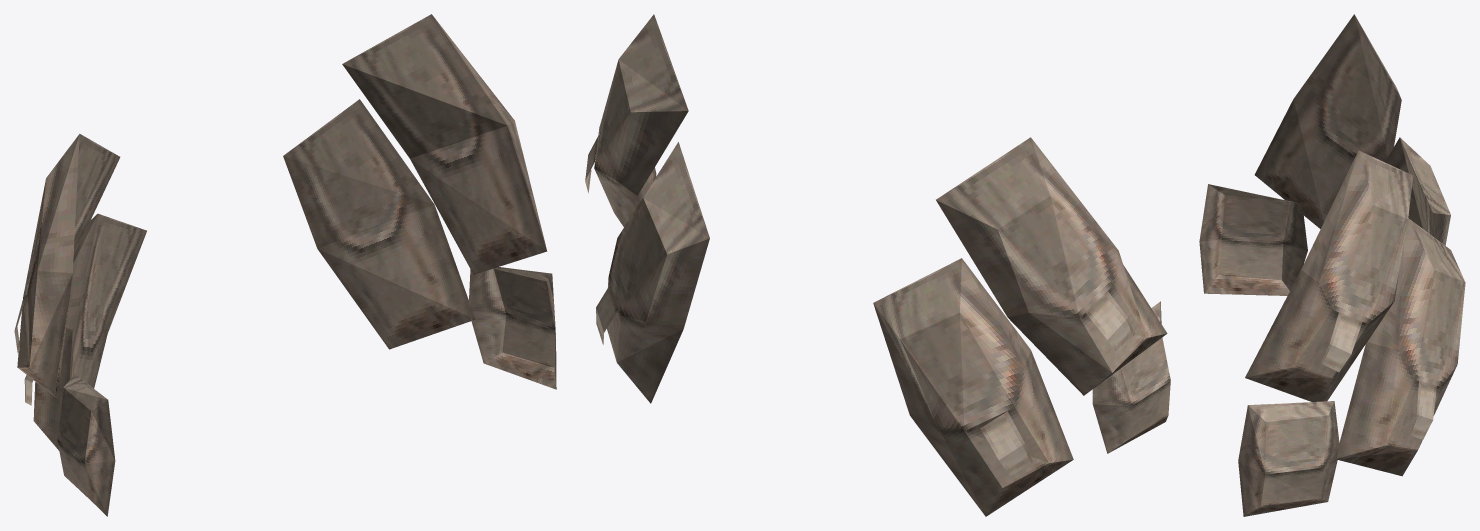
The model's file is recovered_gear_seal_d_ch_front_fb39cabbc0db.glb.
The picture shows the model from 3 angles, left to right: view 1: azimuth 30°, elevation 25°; view 2: azimuth 150°, elevation 25°; view 3: azimuth 270°, elevation 25°; orthographic projection. The views are drawn at different scales.
Visible parts, largest first — view 1: seal_d_ch_front; view 2: seal_d_ch_front; view 3: seal_d_ch_front.
Boxes of the visible parts, bbox=[...] form: seal_d_ch_front: bbox=[14, 14, 556, 516]; seal_d_ch_front: bbox=[585, 14, 1170, 516]; seal_d_ch_front: bbox=[1199, 14, 1465, 516].
Size of the model in its own units: 0.4536 by 0.3203 by 0.2111.
1 material, 1 textured.
